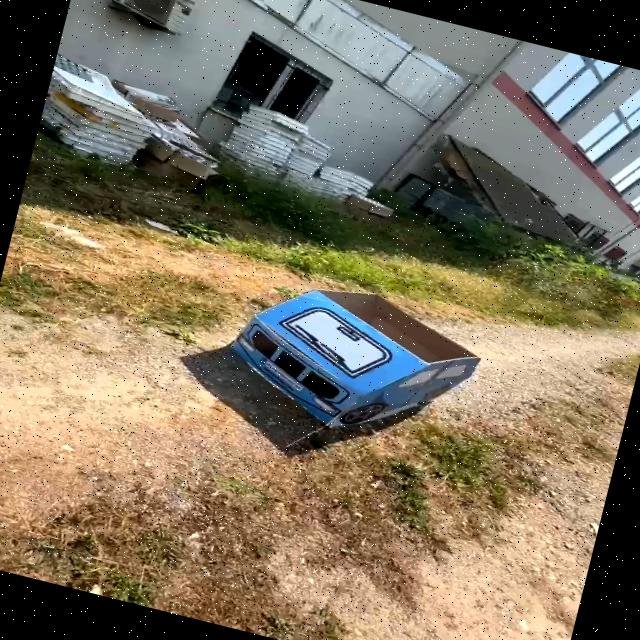blue_car: (193, 251, 506, 478)
